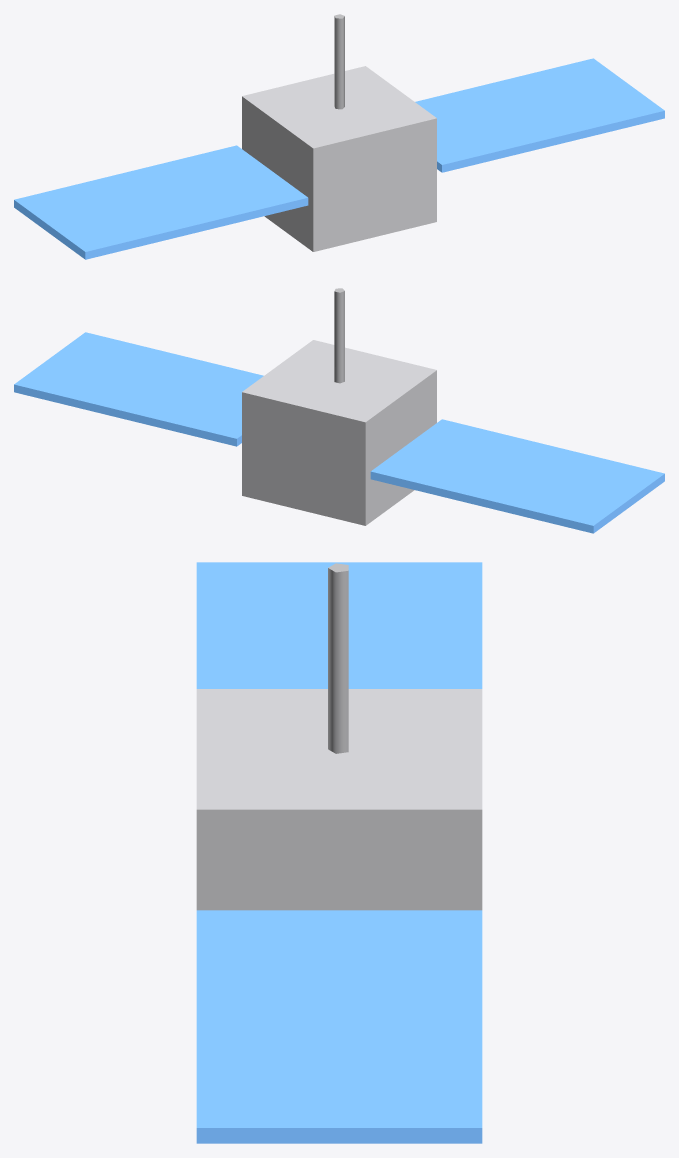
Rendered from satellite.glb.
3 renders of one model, top to bottom at view 1: azimuth 30°, elevation 25°; view 2: azimuth 150°, elevation 25°; view 3: azimuth 270°, elevation 25°, orthographic. The views are drawn at different scales.
Parts seen in each view (by area): view 1: satellite; view 2: satellite; view 3: satellite.
Part boxes in pixels (box(x1,y1,x2,y2)): satellite: box(14, 14, 664, 259); satellite: box(14, 288, 664, 533); satellite: box(196, 562, 482, 1143).
Bounding box in the file's own units: 2.34 × 0.75 × 0.5.
